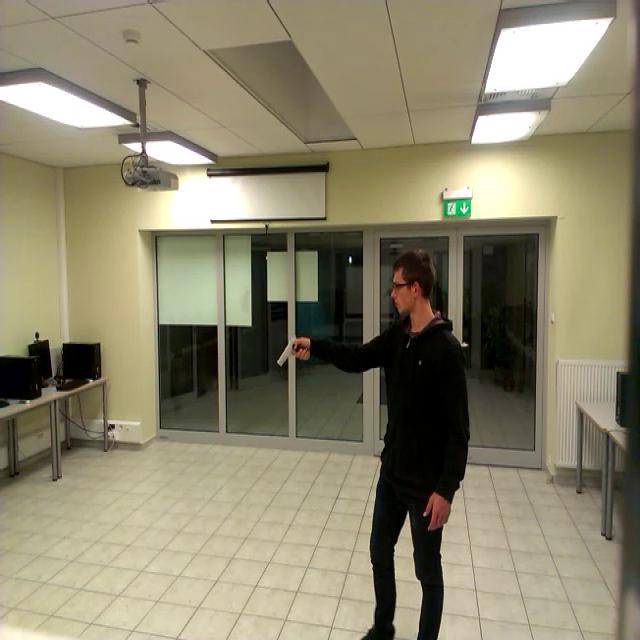Gun: (276, 338, 306, 366)
